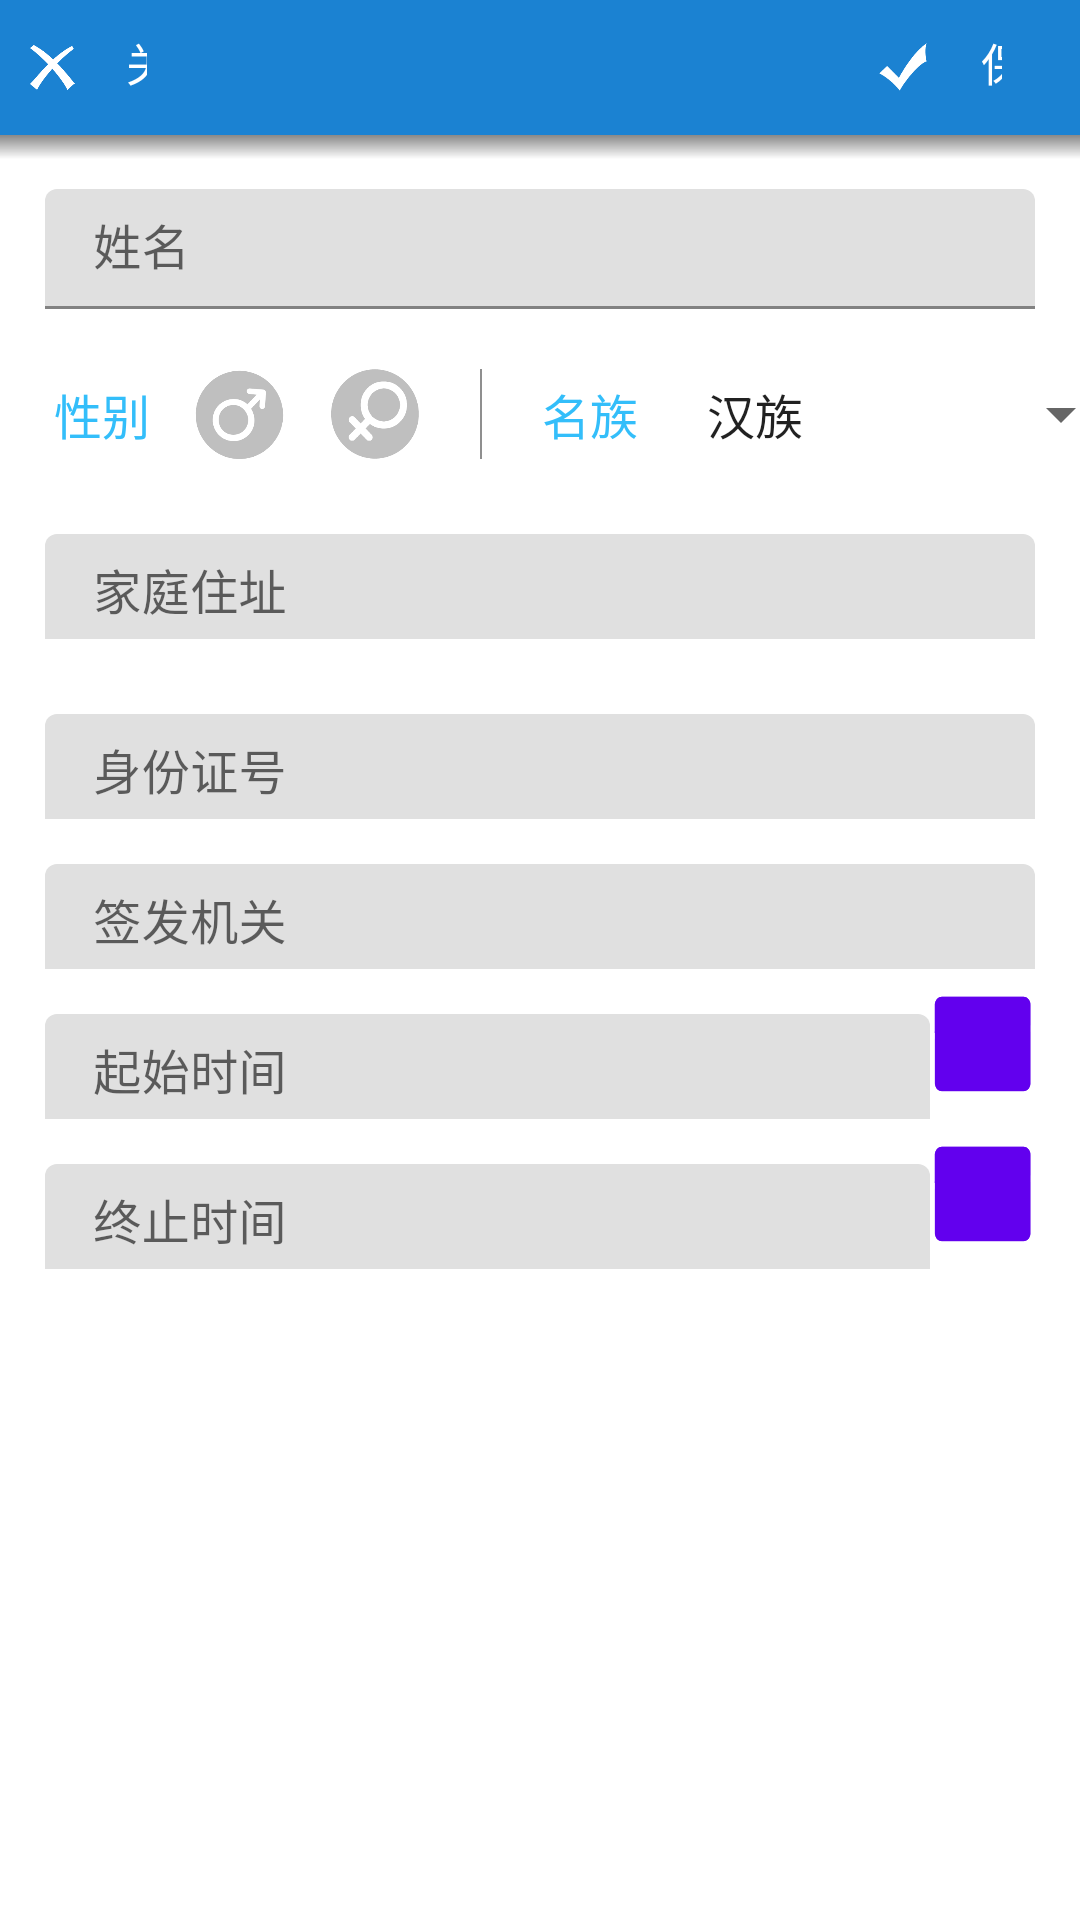

Icons on this 1080x1920 Android screen, each with its box as (x1, y1, x2, y2):
baocun: (879, 43, 927, 91)
guanbi: (30, 45, 75, 90)
radio man: (196, 371, 283, 459)
radio woman: (331, 369, 419, 459)
